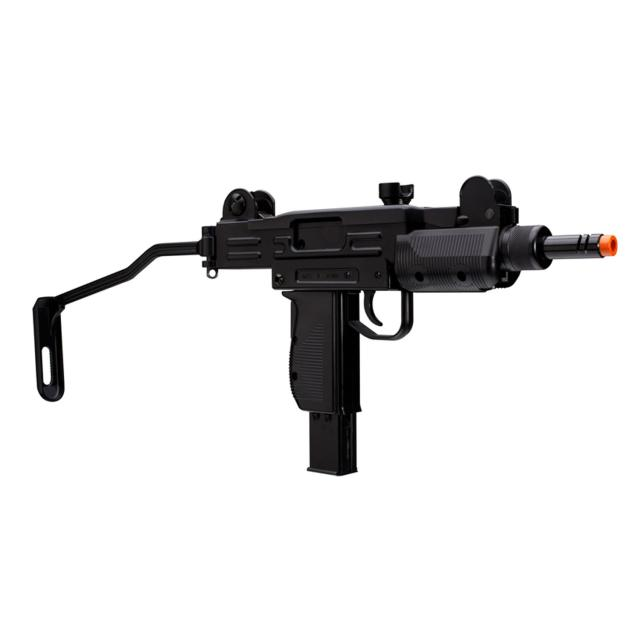SMG: (32, 176, 620, 479)
